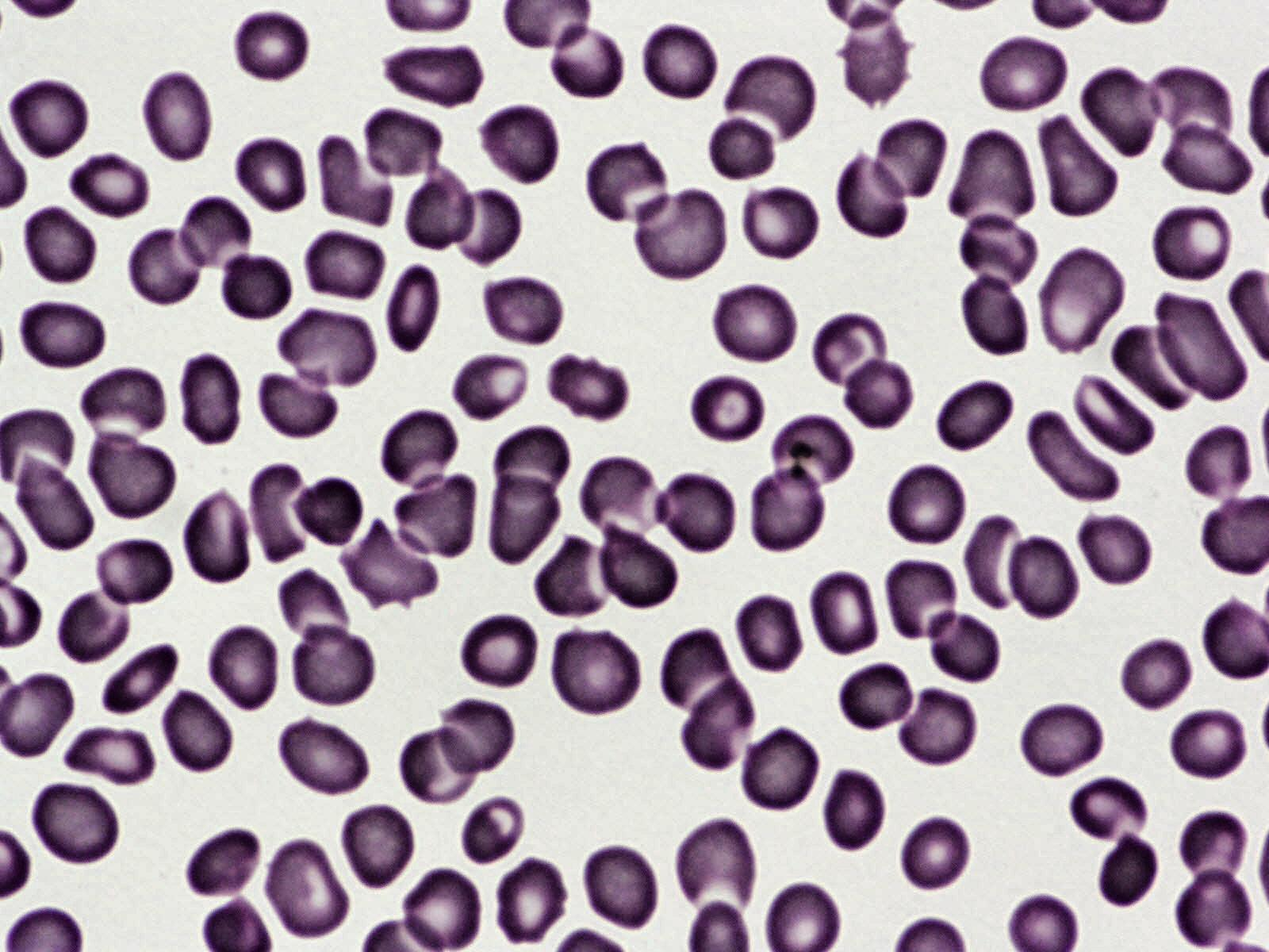Uninfected: (1024, 405, 1124, 506), (261, 834, 354, 942), (633, 182, 730, 285), (1153, 295, 1245, 401), (1034, 109, 1120, 221), (948, 127, 1035, 233), (1137, 63, 1236, 156), (341, 514, 438, 607), (315, 125, 399, 232), (547, 624, 642, 718), (837, 4, 922, 109), (658, 626, 745, 728), (84, 428, 175, 524), (721, 56, 818, 146), (278, 306, 378, 393), (673, 816, 757, 919), (29, 776, 121, 869), (11, 451, 94, 554), (1076, 66, 1165, 161), (1042, 248, 1124, 351), (392, 466, 477, 562), (289, 620, 380, 709), (395, 724, 492, 807), (834, 147, 917, 242), (585, 140, 672, 229), (592, 524, 681, 610), (1166, 867, 1256, 951), (278, 712, 370, 794), (534, 532, 619, 620), (248, 455, 316, 565), (885, 461, 968, 551), (979, 36, 1070, 118), (576, 846, 661, 933), (402, 861, 484, 951), (868, 119, 949, 209), (138, 71, 217, 163), (747, 462, 825, 555), (1160, 123, 1253, 201), (711, 283, 798, 366), (811, 308, 894, 395), (425, 699, 520, 775), (961, 514, 1033, 614), (15, 296, 108, 373), (128, 222, 210, 309), (182, 489, 255, 586), (769, 414, 862, 490), (1151, 201, 1235, 285), (736, 729, 820, 813), (1114, 326, 1196, 412), (493, 855, 568, 949), (1003, 533, 1081, 623), (679, 675, 756, 766), (1073, 375, 1157, 458), (581, 461, 665, 544), (1022, 701, 1109, 780), (489, 474, 562, 568), (653, 472, 736, 554), (157, 688, 236, 774), (957, 217, 1043, 296), (94, 637, 180, 716), (80, 367, 167, 445), (881, 557, 959, 644), (381, 406, 458, 494), (338, 801, 414, 890), (62, 722, 159, 791), (206, 620, 282, 708), (479, 103, 559, 186), (898, 685, 977, 769), (543, 21, 629, 98), (8, 77, 88, 159), (442, 183, 521, 266), (404, 167, 482, 251), (255, 361, 339, 439), (957, 271, 1033, 357), (1175, 812, 1255, 892), (809, 577, 888, 658), (461, 611, 540, 692), (1068, 775, 1149, 854), (233, 7, 315, 85), (272, 567, 355, 644), (815, 767, 889, 853), (383, 44, 479, 110), (448, 351, 537, 422), (741, 187, 822, 265), (21, 209, 98, 291), (834, 352, 910, 435), (94, 537, 180, 610), (477, 278, 563, 351), (539, 352, 631, 420), (641, 23, 719, 103), (227, 140, 307, 217), (360, 108, 441, 184), (934, 377, 1016, 451), (1168, 710, 1252, 782), (734, 594, 807, 676), (305, 229, 383, 305), (68, 149, 148, 223), (929, 605, 1003, 685), (179, 189, 248, 274), (186, 826, 265, 900), (59, 588, 132, 668), (291, 474, 366, 551), (690, 372, 768, 446), (495, 428, 569, 506), (899, 813, 972, 892), (178, 352, 237, 449), (1184, 424, 1256, 503), (1077, 511, 1152, 586), (1119, 635, 1191, 713), (1096, 828, 1160, 915), (840, 662, 914, 736), (384, 264, 444, 355), (704, 110, 778, 182), (215, 254, 288, 325), (462, 795, 519, 866)
